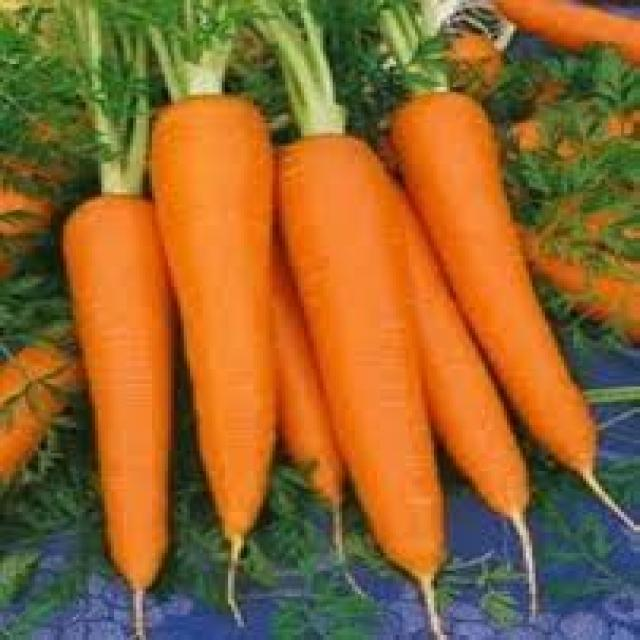Carrot: (63, 195, 179, 608)
